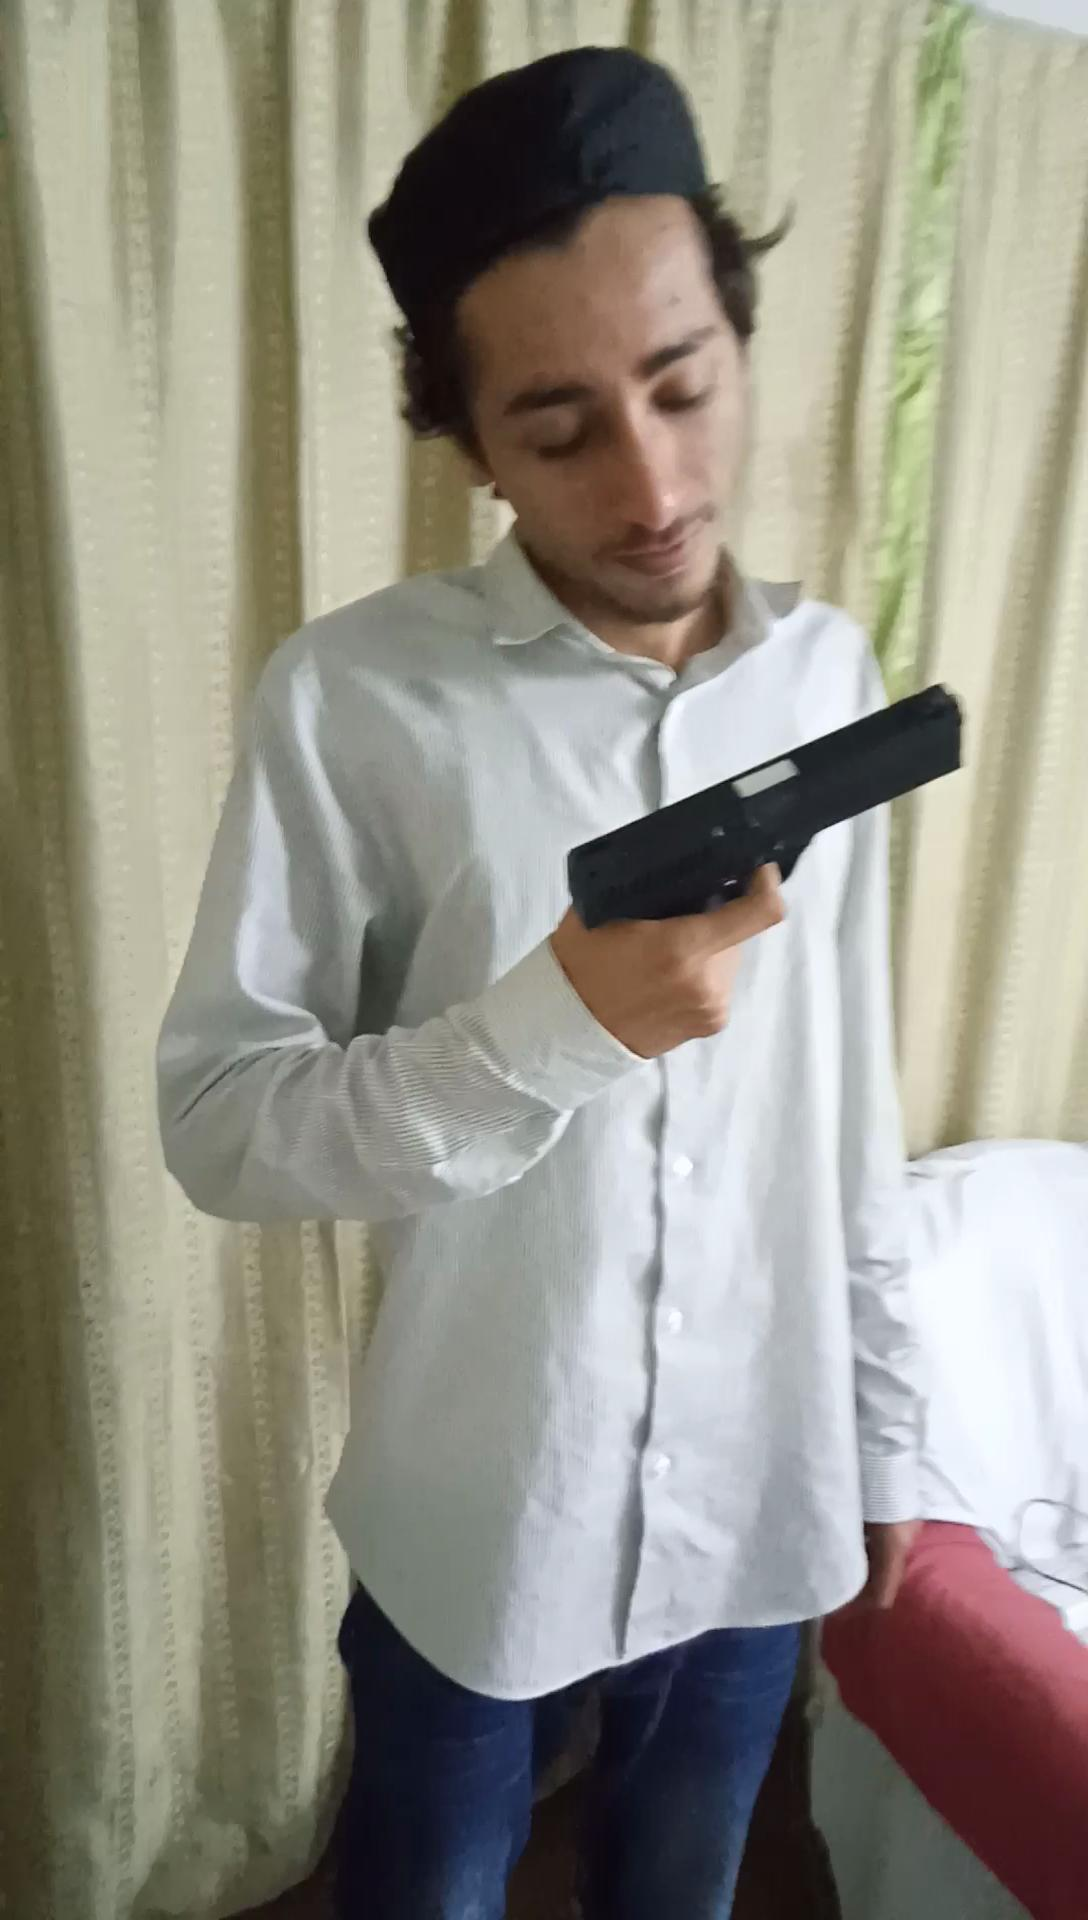criminal: (161, 36, 967, 1920)
weapon: (541, 666, 979, 957)
